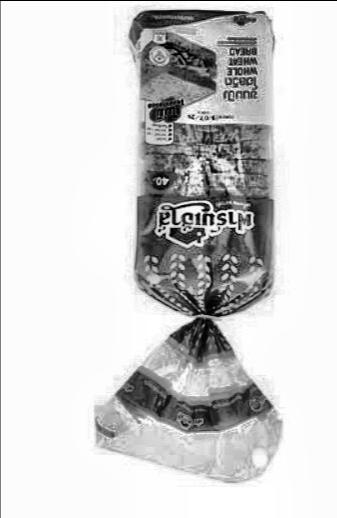snackbag: (69, 0, 318, 498)
